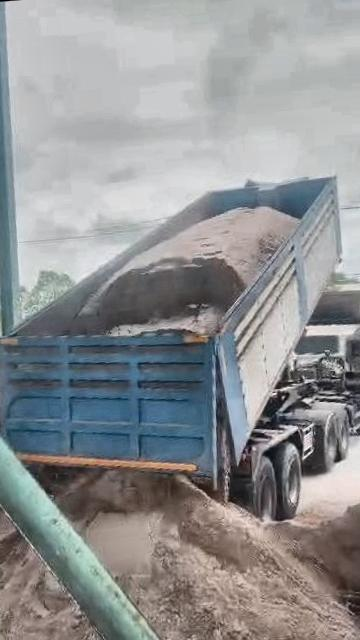sand: (58, 472, 360, 640), (77, 207, 297, 334), (0, 484, 163, 640), (35, 467, 102, 500)
